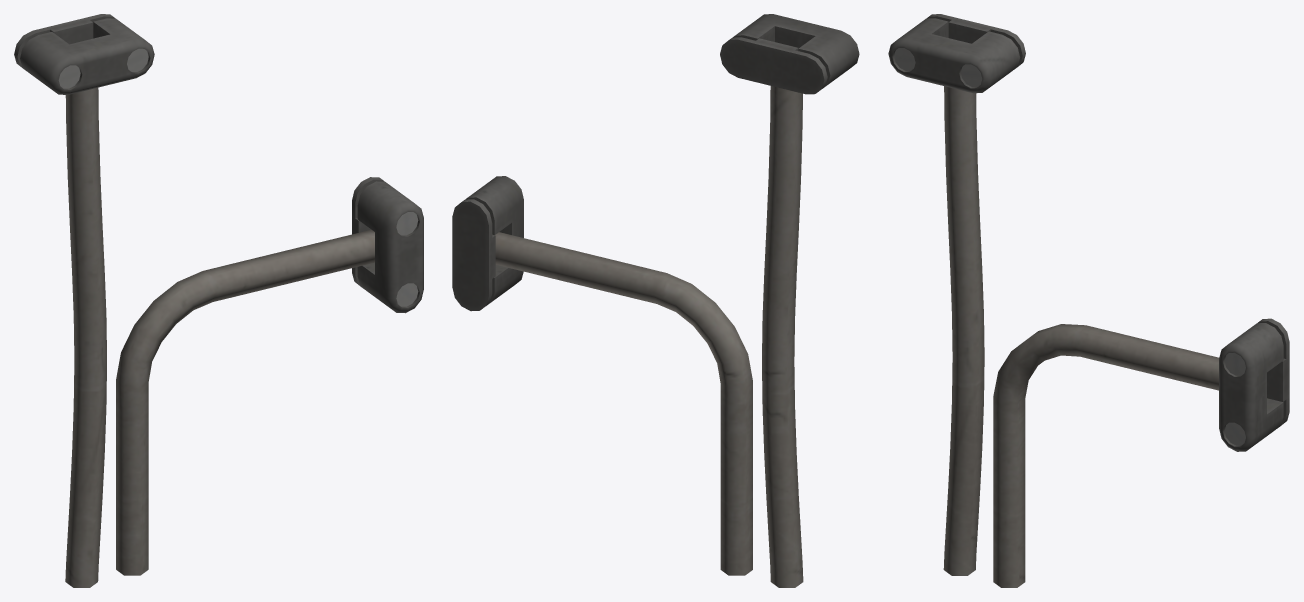
The model's file is cable_cable_double_junction.fbx.
The picture shows the model from 3 angles, left to right: view 1: azimuth 30°, elevation 25°; view 2: azimuth 150°, elevation 25°; view 3: azimuth 330°, elevation 25°; orthographic projection. The views are drawn at different scales.
Parts seen in each view (by area): view 1: modular_electric_cables__cable_double_junction; view 2: modular_electric_cables__cable_double_junction; view 3: modular_electric_cables__cable_double_junction.
Boxes of the visible parts, x1=… form: modular_electric_cables__cable_double_junction: x1=14, y1=14, x2=423, y2=587; modular_electric_cables__cable_double_junction: x1=452, y1=14, x2=859, y2=587; modular_electric_cables__cable_double_junction: x1=888, y1=14, x2=1289, y2=587.
Size of the model in its own units: 0.1481 by 0.2073 by 0.0259.
